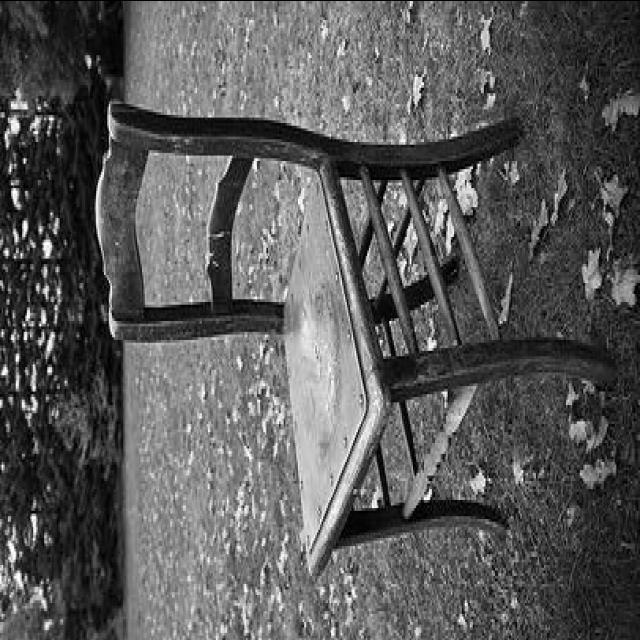chair: (91, 97, 605, 585)
